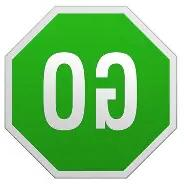Go: (6, 6, 177, 178), (6, 6, 176, 178), (66, 72, 66, 73)
